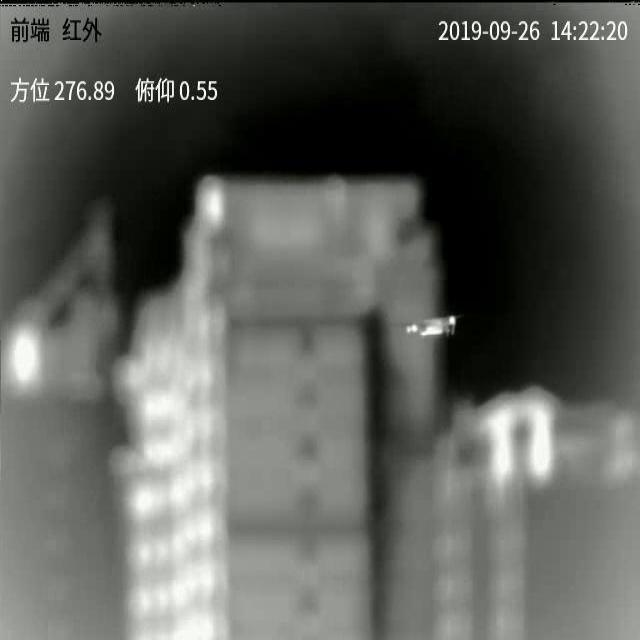drone: (405, 316, 456, 337)
